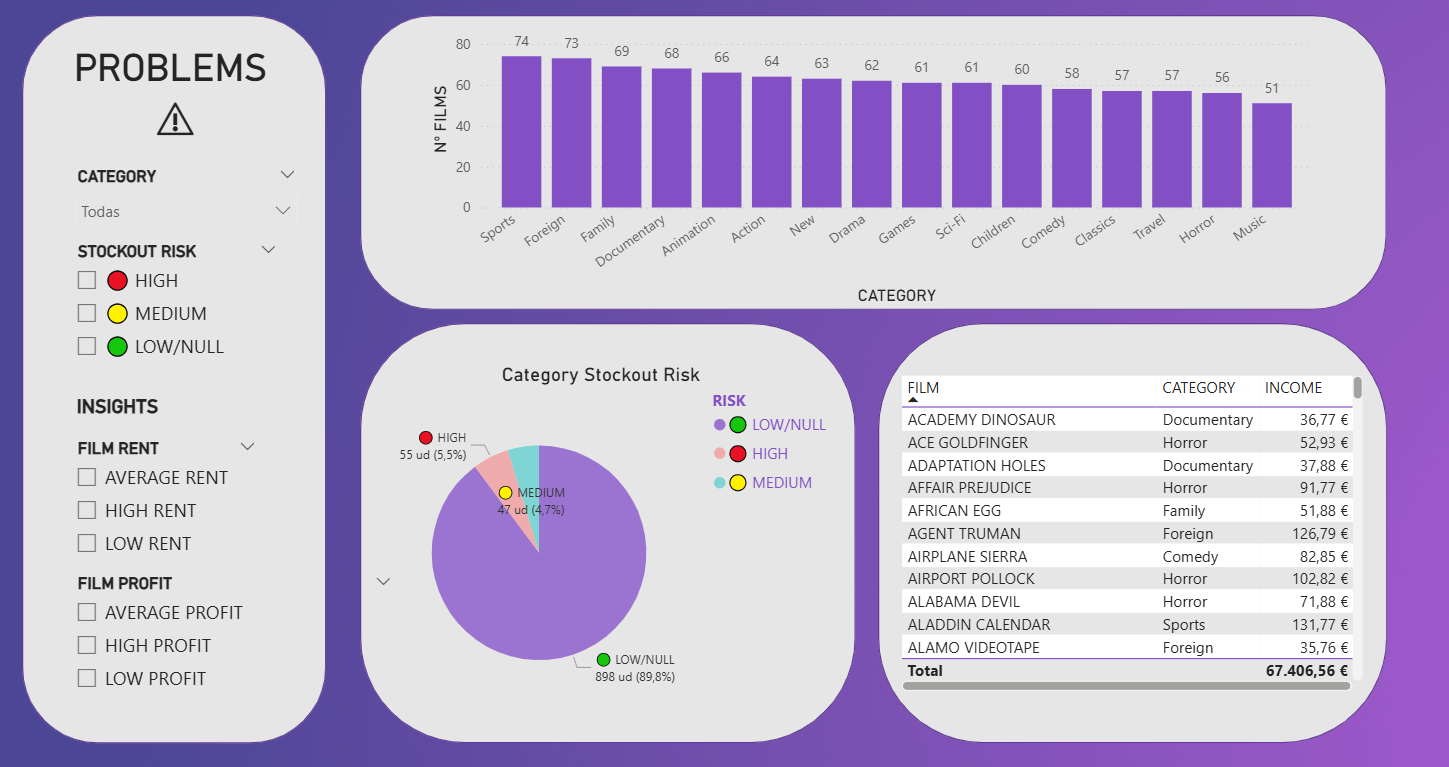

The dashboard page shown, as its layout file describes it:
{"tool":"powerbi","page":{"name":"PROBLEMS","canvas":[1280,720],"ordinal":1},"visuals":[{"type":"shape","box":[20.9,19.1,267.3,640],"z":0},{"type":"shape","box":[318.2,19.1,901.8,259.1],"z":1000},{"type":"shape","box":[318.2,290,435.5,369.1],"z":2000},{"type":"textbox","box":[20.9,40.9,269.1,108.2],"z":3000},{"type":"slicer","fields":{"Values":["PROYECTO COMPLETO.RIESGO DE RUPTURA"]},"box":[57.1,214.4,199.4,145.8],"z":4000},{"type":"shape","box":[772.7,290,447.3,369.1],"z":5000},{"type":"pieChart","title":"Category Stockout Risk","fields":{"Category":["PROYECTO COMPLETO.RIESGO DE RUPTURA"],"Y":["CountNonNull(PROYECTO COMPLETO.Categoria)"]},"box":[318.2,325.5,423.6,314.5],"z":6000},{"type":"slicer","fields":{"Values":["PROYECTO COMPLETO.Categoria"]},"box":[57.1,148.5,216.1,64.1],"z":7000},{"type":"columnChart","fields":{"Category":["PROYECTO COMPLETO.Categoria"],"Y":["CountNonNull(PROYECTO COMPLETO.Film_id)"]},"box":[376.4,19.1,783.6,259.1],"z":8000},{"type":"slicer","fields":{"Values":["PROYECTO COMPLETO.Clasificacion ARU"]},"box":[57.1,387.4,181,118.6],"z":9000},{"type":"slicer","fields":{"Values":["PROYECTO COMPLETO.Clasificacion RIU"]},"box":[57.1,506,300.5,188.9],"z":10000},{"type":"tableEx","fields":{"Values":["PROYECTO COMPLETO.Nombre","PROYECTO COMPLETO.Categoria","Sum(PROYECTO COMPLETO.Ingresos_Totales)"]},"box":[788.2,330.9,416.4,287.3],"z":11000},{"type":"textbox","box":[36,347.9,137.9,99.3],"z":12000}]}

Visuals, with their boxes on the page's 1280x720 design canvas (x1, y1, x2, y2). These are canvas units, not pixel positions in the 1449x767 screenshot, which may show the page scaled, cropped or inside an application window:
shape: pyautogui.locateOnScreen(21, 19, 288, 659)
shape: pyautogui.locateOnScreen(318, 19, 1220, 278)
shape: pyautogui.locateOnScreen(318, 290, 754, 659)
textbox: pyautogui.locateOnScreen(21, 41, 290, 149)
slicer - PROYECTO COMPLETO.RIESGO DE RUPTURA: pyautogui.locateOnScreen(57, 214, 256, 360)
shape: pyautogui.locateOnScreen(773, 290, 1220, 659)
"Category Stockout Risk" pieChart: pyautogui.locateOnScreen(318, 326, 742, 640)
slicer - PROYECTO COMPLETO.Categoria: pyautogui.locateOnScreen(57, 148, 273, 213)
columnChart - PROYECTO COMPLETO.Categoria x CountNonNull(PROYECTO COMPLETO.Film_id): pyautogui.locateOnScreen(376, 19, 1160, 278)
slicer - PROYECTO COMPLETO.Clasificacion ARU: pyautogui.locateOnScreen(57, 387, 238, 506)
slicer - PROYECTO COMPLETO.Clasificacion RIU: pyautogui.locateOnScreen(57, 506, 358, 695)
tableEx - PROYECTO COMPLETO.Nombre x PROYECTO COMPLETO.Categoria: pyautogui.locateOnScreen(788, 331, 1205, 618)
textbox: pyautogui.locateOnScreen(36, 348, 174, 447)
